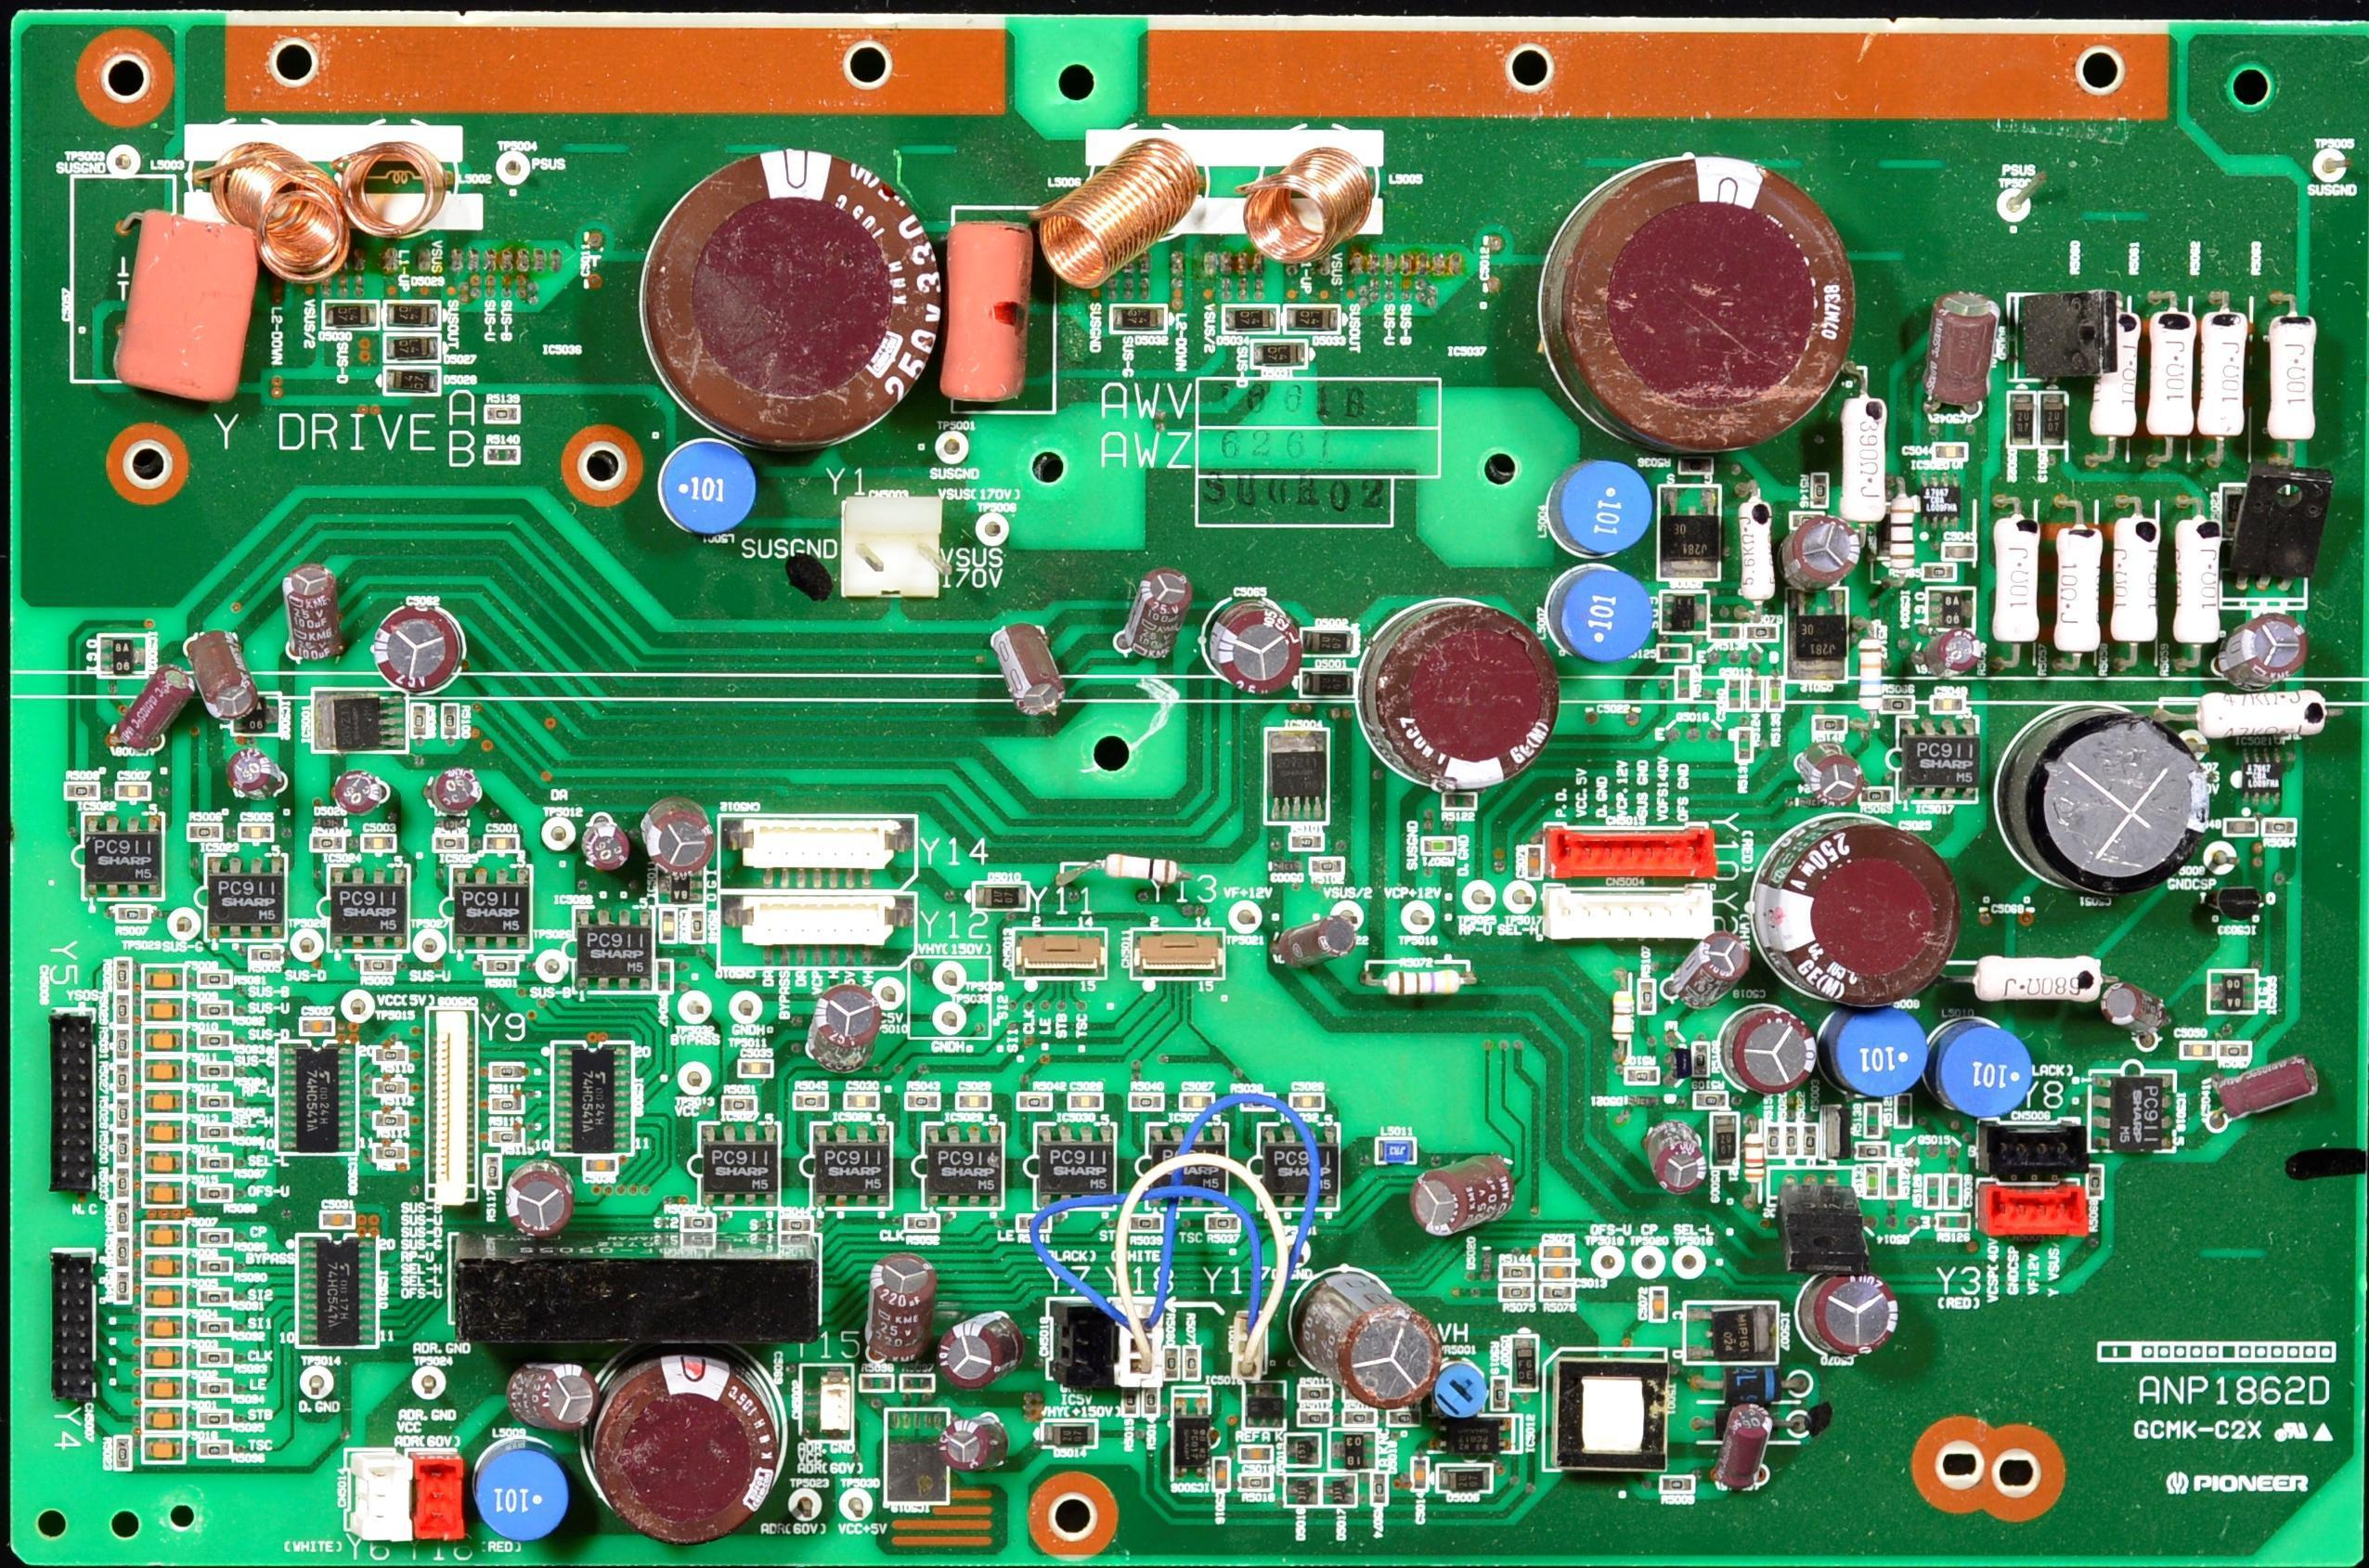Capacitor: (594, 1355, 782, 1540), (1288, 1274, 1444, 1408), (1924, 295, 1993, 422), (1411, 1161, 1517, 1235), (374, 606, 460, 691), (988, 625, 1065, 719), (1221, 601, 1297, 694), (1730, 1009, 1817, 1092), (870, 1254, 932, 1363), (1120, 571, 1193, 663), (1804, 1277, 1896, 1349), (938, 1309, 1026, 1385), (191, 628, 259, 718), (1709, 1405, 1776, 1492), (511, 1362, 596, 1427), (119, 674, 190, 751), (1681, 929, 1749, 1007), (813, 983, 874, 1067), (1791, 517, 1858, 588), (2234, 622, 2306, 688), (286, 569, 336, 661), (507, 1164, 574, 1234), (646, 802, 712, 871), (1646, 1126, 1710, 1193), (1273, 916, 1356, 968), (1801, 744, 1867, 804), (943, 1414, 1006, 1473), (227, 745, 284, 798), (1931, 632, 1984, 679), (432, 768, 479, 814), (585, 823, 628, 869), (336, 772, 382, 810), (843, 1092, 879, 1112), (956, 1093, 990, 1111), (1411, 1458, 1429, 1493), (1944, 1173, 1961, 1211), (1935, 442, 1968, 461), (1181, 1095, 1215, 1111), (320, 1211, 355, 1228), (485, 835, 520, 852), (740, 1060, 773, 1078), (1069, 1092, 1103, 1110), (1525, 845, 1543, 879), (361, 835, 396, 851), (2182, 1042, 2214, 1058), (1541, 1263, 1573, 1281), (1651, 1286, 1666, 1321), (117, 784, 152, 800), (300, 1019, 333, 1035), (1542, 1244, 1575, 1261), (1213, 1458, 1229, 1492), (2223, 820, 2258, 836), (239, 824, 273, 840), (586, 1159, 617, 1174), (1241, 1445, 1272, 1460), (1944, 545, 1975, 561), (661, 909, 676, 943), (1729, 680, 1743, 712), (1294, 1095, 1325, 1108), (1932, 698, 1962, 710)
Connector: (720, 892, 918, 967), (717, 815, 918, 889), (427, 1008, 478, 1206), (1543, 824, 1716, 882), (1546, 883, 1713, 940), (48, 1012, 94, 1190), (52, 1251, 97, 1405), (1980, 1121, 2091, 1180), (1976, 1183, 2090, 1239), (348, 1451, 412, 1545), (406, 1449, 465, 1545), (1013, 928, 1109, 978), (1132, 928, 1225, 979), (1053, 1302, 1115, 1381), (1118, 1304, 1163, 1385), (801, 1367, 850, 1439)
IC: (277, 1042, 358, 1153), (295, 1235, 377, 1347), (552, 1041, 632, 1152), (1898, 714, 1981, 805), (2089, 1070, 2177, 1153), (699, 1121, 780, 1208), (83, 813, 162, 899), (924, 1123, 1003, 1208), (812, 1123, 889, 1206), (207, 856, 284, 938), (576, 910, 652, 991), (1037, 1125, 1112, 1208), (1262, 1126, 1338, 1207), (330, 867, 406, 948), (1267, 728, 1329, 826), (1684, 1302, 1780, 1366), (452, 869, 528, 949), (1150, 1128, 1225, 1204), (888, 1411, 948, 1503), (314, 692, 404, 751), (1173, 1395, 1213, 1475), (1430, 1417, 1512, 1454), (1916, 470, 1962, 529), (97, 638, 160, 676), (2208, 968, 2258, 1016), (1926, 589, 1976, 630), (2207, 887, 2266, 922), (1244, 1382, 1286, 1430), (1328, 1431, 1378, 1471), (231, 699, 281, 736), (2242, 754, 2282, 802), (657, 865, 705, 904), (1287, 1434, 1321, 1467), (1322, 1475, 1356, 1507), (1286, 1476, 1320, 1507)
Resistor: (1051, 848, 1194, 896), (2270, 316, 2315, 442), (1838, 398, 1885, 521), (2052, 525, 2097, 652), (2092, 313, 2138, 437), (2177, 520, 2222, 642), (1994, 520, 2039, 641), (2150, 312, 2194, 433), (2114, 523, 2156, 639), (1359, 963, 1478, 1002), (2205, 312, 2241, 435), (1738, 499, 1778, 605), (1858, 637, 1886, 713), (1891, 491, 1915, 573), (1743, 1120, 1765, 1197), (1613, 988, 1635, 1048), (484, 957, 519, 977), (411, 703, 430, 740), (2218, 1042, 2253, 1060), (1767, 674, 1784, 712), (311, 835, 346, 853), (1442, 794, 1479, 812), (375, 1047, 408, 1066), (1018, 1092, 1052, 1111), (489, 1127, 524, 1147), (1500, 1285, 1533, 1303), (1542, 1285, 1575, 1303), (1638, 978, 1655, 1014), (1693, 1093, 1729, 1109), (1801, 1124, 1819, 1158), (198, 1289, 232, 1305), (1661, 1477, 1695, 1494), (485, 447, 519, 466), (441, 703, 458, 739), (1300, 1385, 1331, 1403), (1626, 1068, 1661, 1085), (373, 1113, 407, 1130), (1857, 1143, 1890, 1160), (485, 1154, 501, 1186), (2088, 1165, 2104, 1199), (1491, 1378, 1508, 1411), (1240, 1473, 1274, 1491), (485, 407, 517, 424), (67, 784, 100, 801), (1288, 834, 1321, 850), (116, 905, 149, 923), (361, 958, 396, 974), (115, 1025, 131, 1061), (1693, 1042, 1709, 1077), (1243, 1093, 1275, 1109), (491, 1095, 524, 1111), (1865, 1105, 1882, 1139), (1937, 1213, 1969, 1230), (683, 1216, 717, 1232), (907, 1216, 939, 1234), (116, 1270, 131, 1305), (1389, 1411, 1420, 1428), (198, 1441, 232, 1457), (1371, 1471, 1388, 1507), (1747, 677, 1763, 712), (1736, 729, 1752, 762), (188, 824, 222, 840), (1421, 839, 1456, 855), (1311, 858, 1341, 875), (251, 947, 283, 963), (491, 1065, 524, 1081), (375, 1080, 408, 1095), (906, 1093, 939, 1108), (794, 1093, 827, 1108), (1131, 1095, 1164, 1110), (1766, 1124, 1780, 1157), (116, 1131, 131, 1164), (198, 1155, 231, 1171), (116, 1166, 131, 1199), (1017, 1215, 1050, 1231), (1500, 1265, 1533, 1281), (198, 1381, 230, 1396), (1299, 1410, 1332, 1426), (1343, 1410, 1377, 1427), (115, 1437, 131, 1470), (1811, 473, 1827, 506), (1923, 563, 1956, 577), (1813, 717, 1846, 733), (116, 959, 131, 991), (655, 960, 671, 992), (199, 1033, 231, 1048), (1885, 1165, 1901, 1198), (199, 1186, 230, 1201), (1207, 1215, 1239, 1231), (200, 1259, 230, 1274), (1165, 1348, 1181, 1379), (1184, 1348, 1199, 1380), (199, 1411, 231, 1426), (2263, 820, 2295, 835), (691, 911, 706, 942), (1896, 1096, 1913, 1126), (1884, 697, 1913, 715), (724, 1097, 754, 1113), (1783, 1125, 1799, 1156), (1864, 1165, 1879, 1196), (116, 1202, 132, 1233), (199, 1126, 232, 1140), (198, 1231, 230, 1245), (199, 1321, 232, 1336), (199, 1351, 232, 1366), (1744, 627, 1778, 641), (434, 837, 468, 852), (117, 1064, 132, 1095), (375, 1146, 407, 1160), (1131, 1216, 1162, 1231), (115, 1237, 130, 1268), (861, 1375, 893, 1390), (901, 1375, 933, 1389), (1712, 627, 1743, 640), (1678, 458, 1714, 472), (115, 993, 130, 1024), (199, 1095, 229, 1110), (115, 1098, 130, 1128), (1123, 1390, 1139, 1416), (781, 1218, 813, 1231), (200, 1065, 227, 1078), (1861, 787, 1889, 802), (1144, 1390, 1157, 1418)
Transistor: (1660, 486, 1719, 579), (1791, 590, 1848, 680), (1662, 591, 1710, 632)
